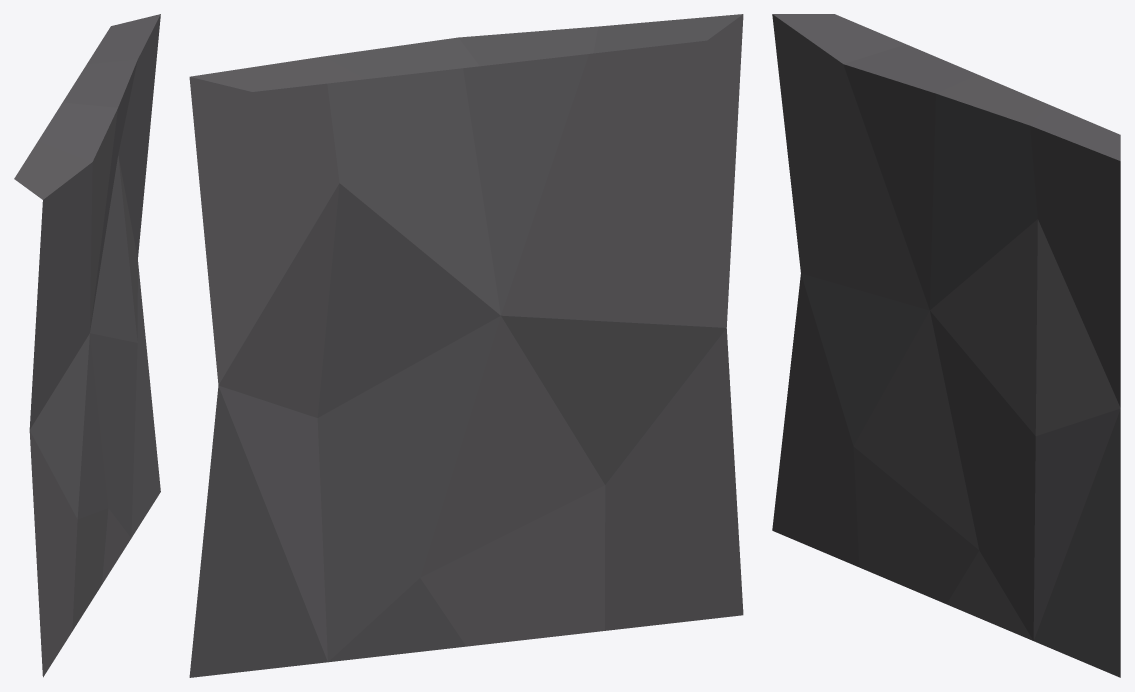
The model's file is mesh_nature_cliff_bottom_corner_02.fbx.
The picture shows the model from 3 angles, left to right: view 1: azimuth 30°, elevation 25°; view 2: azimuth 150°, elevation 25°; view 3: azimuth 270°, elevation 25°; orthographic projection. The views are drawn at different scales.
Visible parts, largest first — view 1: mesh_nature_cliff_bottom_corner_02; view 2: mesh_nature_cliff_bottom_corner_02; view 3: mesh_nature_cliff_bottom_corner_02.
Part boxes in pixels (x1=…): mesh_nature_cliff_bottom_corner_02: x1=14, y1=14, x2=160, y2=677; mesh_nature_cliff_bottom_corner_02: x1=189, y1=14, x2=743, y2=677; mesh_nature_cliff_bottom_corner_02: x1=772, y1=14, x2=1120, y2=677.
Bounding box in the file's own units: 122 × 200 × 122.
